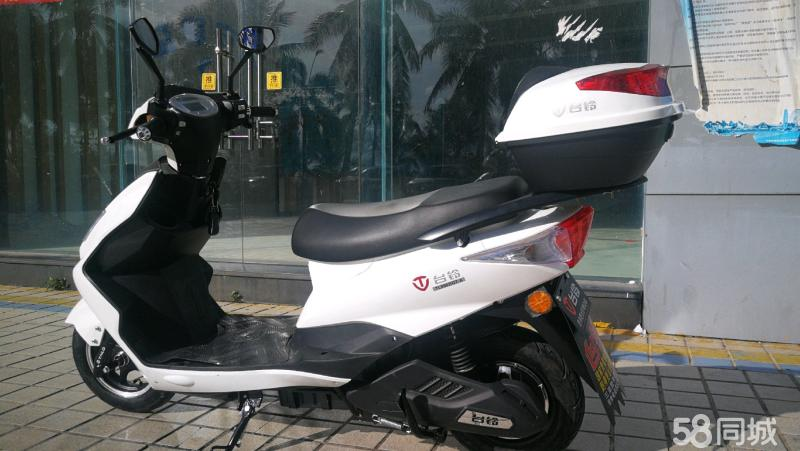电动车: (50, 12, 685, 451)
